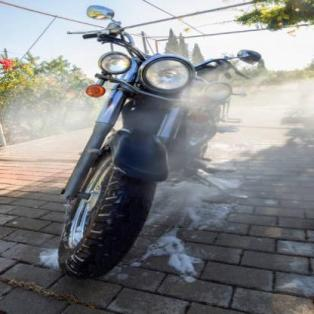Motocicleta: (57, 0, 252, 283)
